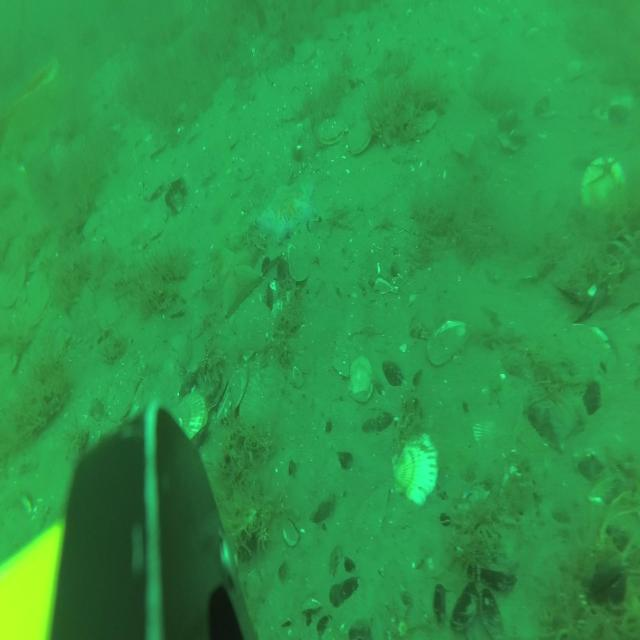scallop: (392, 430, 440, 507), (165, 391, 209, 454), (582, 156, 624, 216), (105, 364, 139, 423), (426, 322, 466, 366), (348, 358, 374, 407), (347, 119, 373, 160), (317, 117, 347, 145)
starfish: (202, 240, 264, 316), (255, 180, 317, 245)
